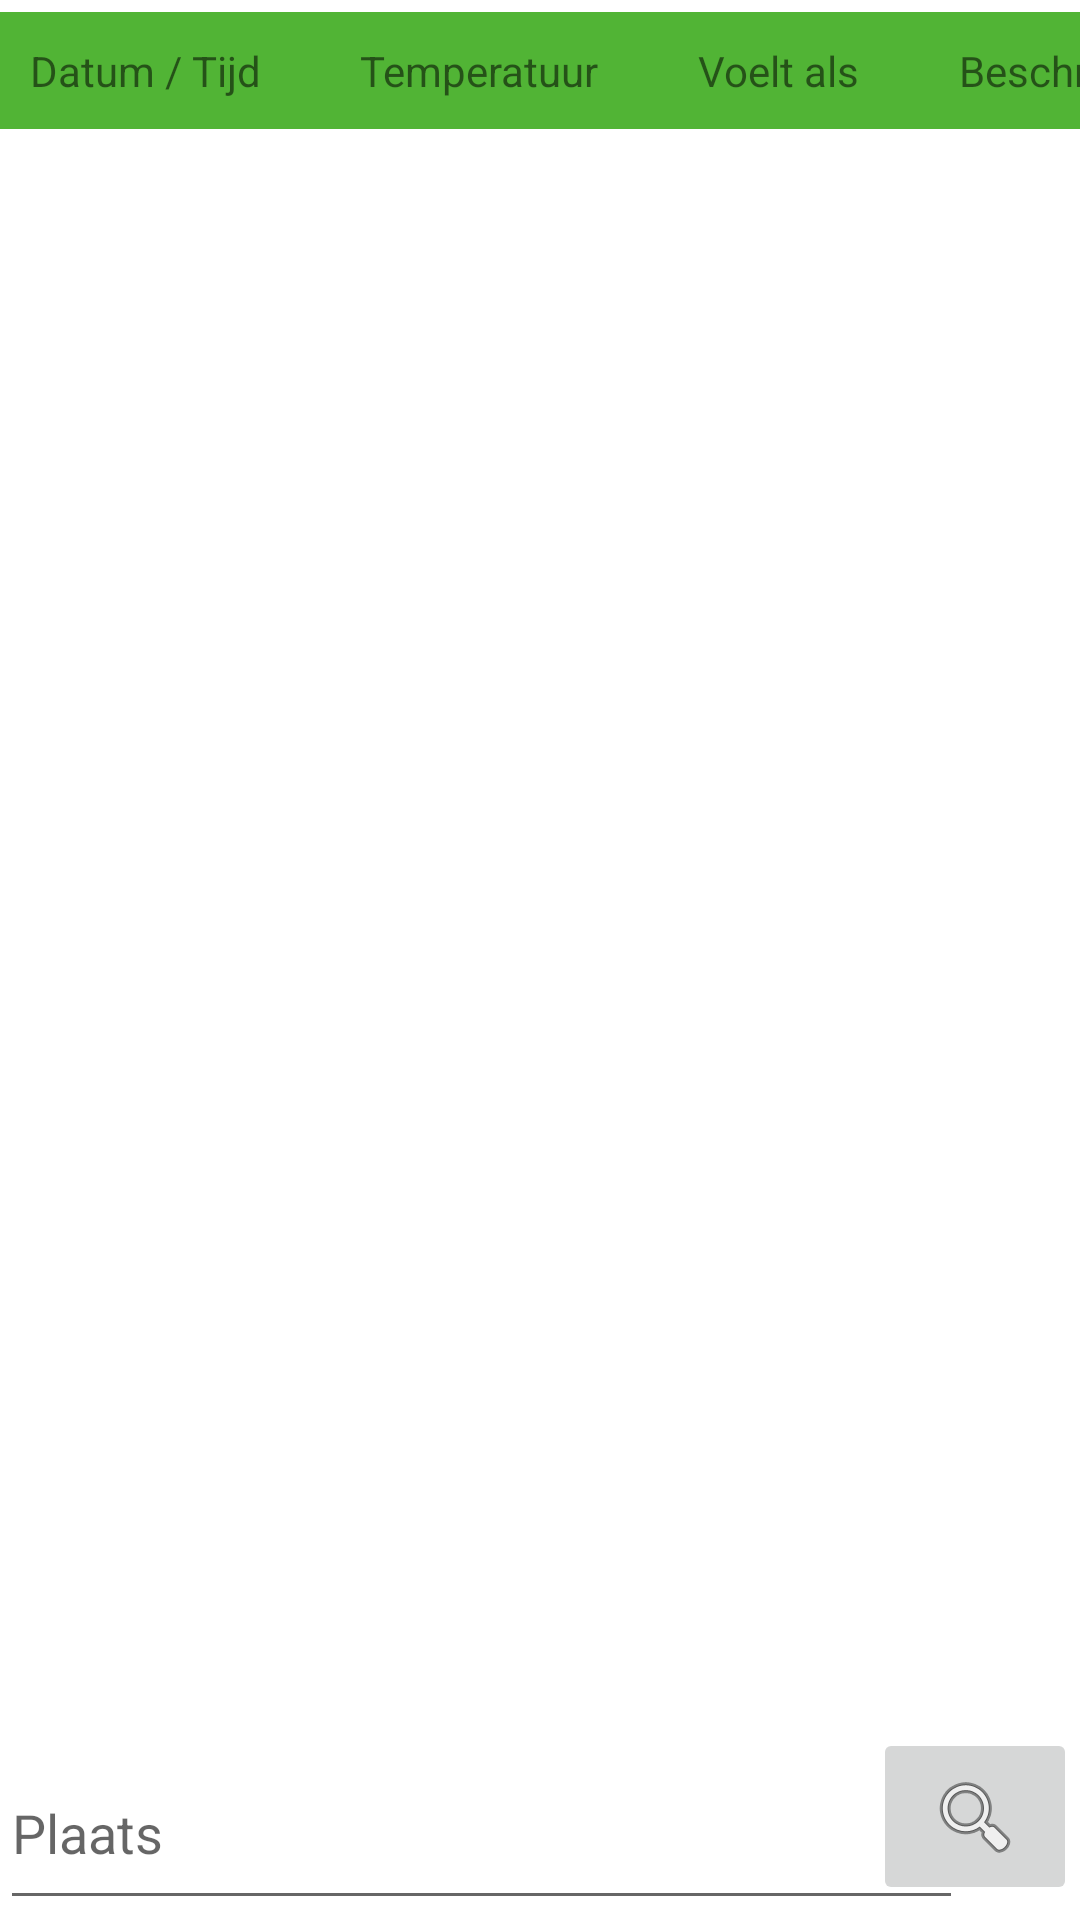

Where icons sit on this 1080w x 1920h app screen, as (x1, y1, x2, y2):
search: (885, 1746, 1065, 1887)
